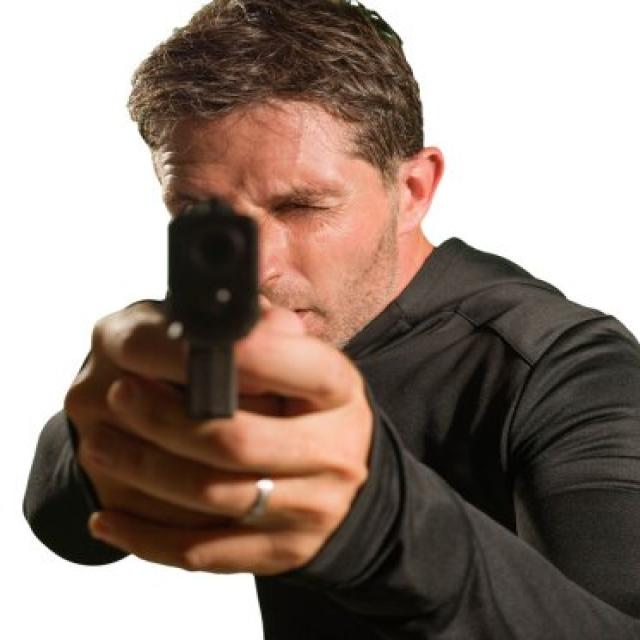HandGun: (165, 203, 263, 422)
